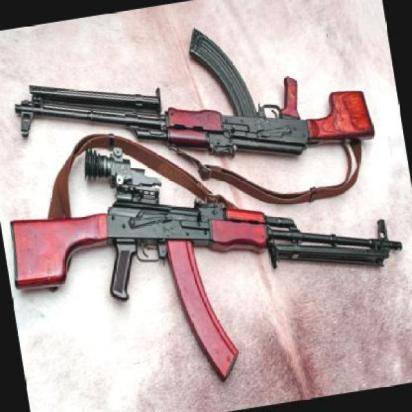Gun: (13, 196, 405, 372), (15, 31, 371, 157)
